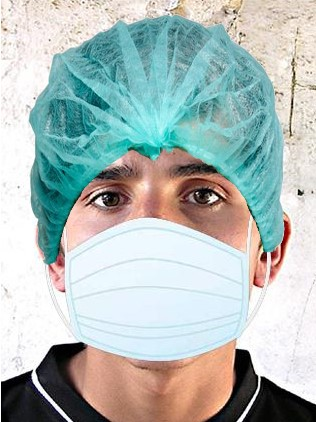with_mask_and_cap: (28, 17, 289, 367)
